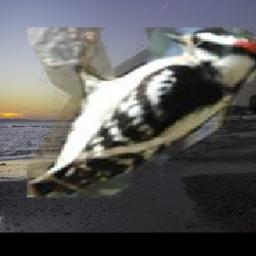Woodpecker: (26, 27, 256, 197)
